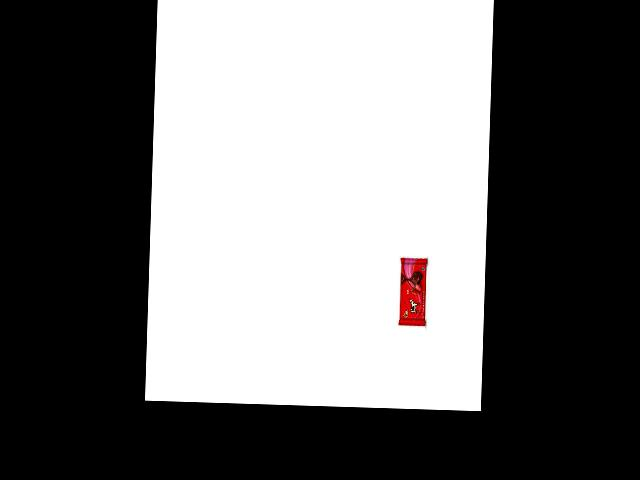chocolate: (398, 257, 432, 331)
